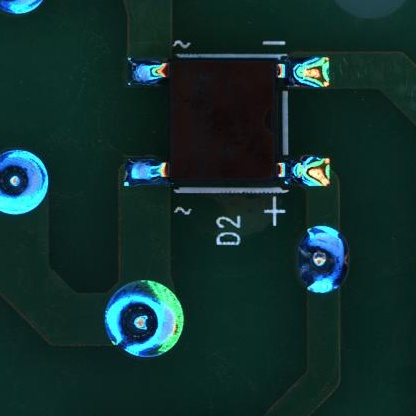spot: (104, 280, 186, 361), (297, 223, 346, 294), (1, 149, 49, 216)
